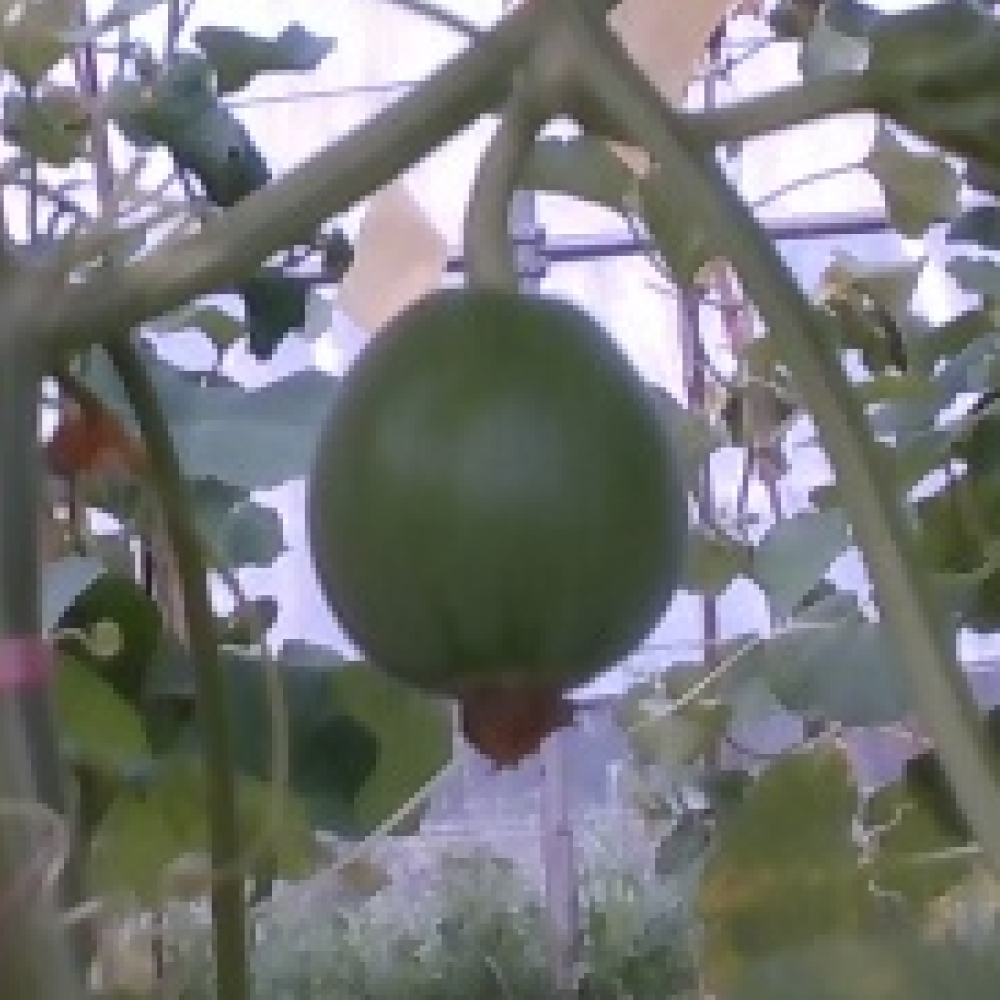melon: (298, 285, 685, 752)
